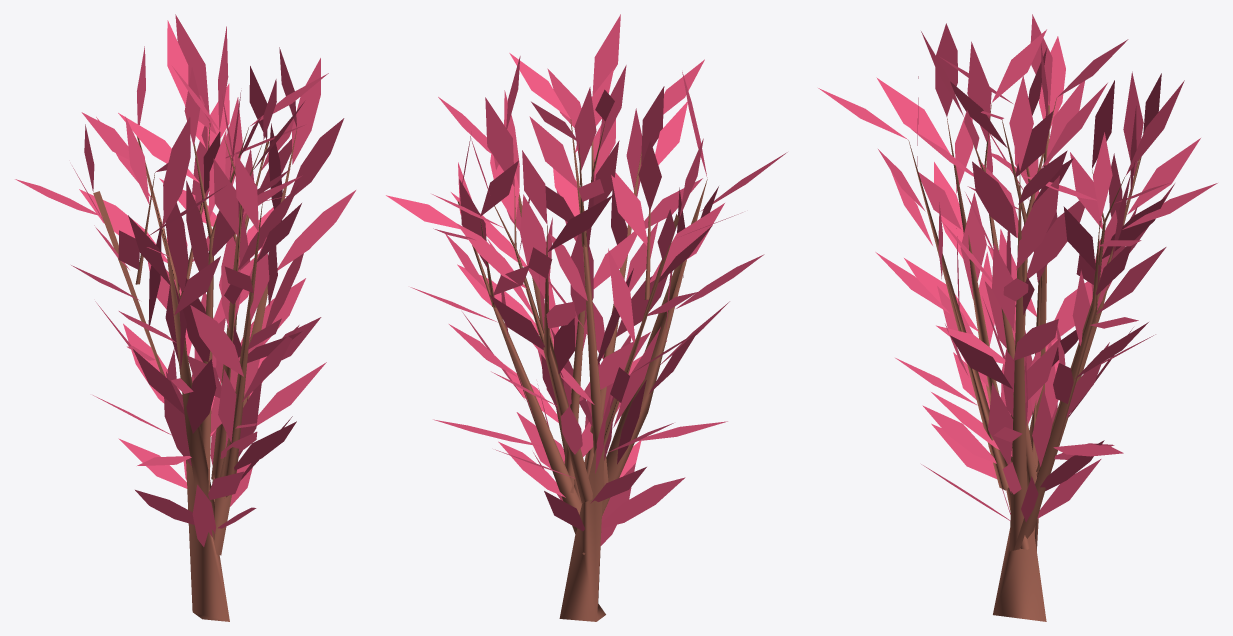
File: tree_13.fbx
The picture shows the model from 3 angles, left to right: view 1: azimuth 30°, elevation 25°; view 2: azimuth 150°, elevation 25°; view 3: azimuth 270°, elevation 25°; orthographic projection. The views are drawn at different scales.
Visible parts, largest first — view 1: tree.001; view 2: tree.001; view 3: tree.001.
Boxes of the visible parts, box(x1,y1,x2,y2) form: tree.001: box(15, 14, 355, 621); tree.001: box(386, 14, 787, 621); tree.001: box(818, 14, 1217, 621).
Size of the model in its own units: 427 by 704 by 433.
